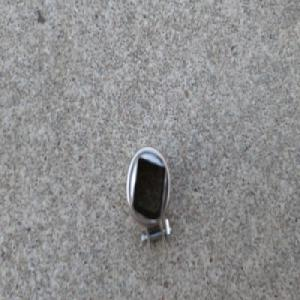MetalPart: (125, 143, 173, 256)
